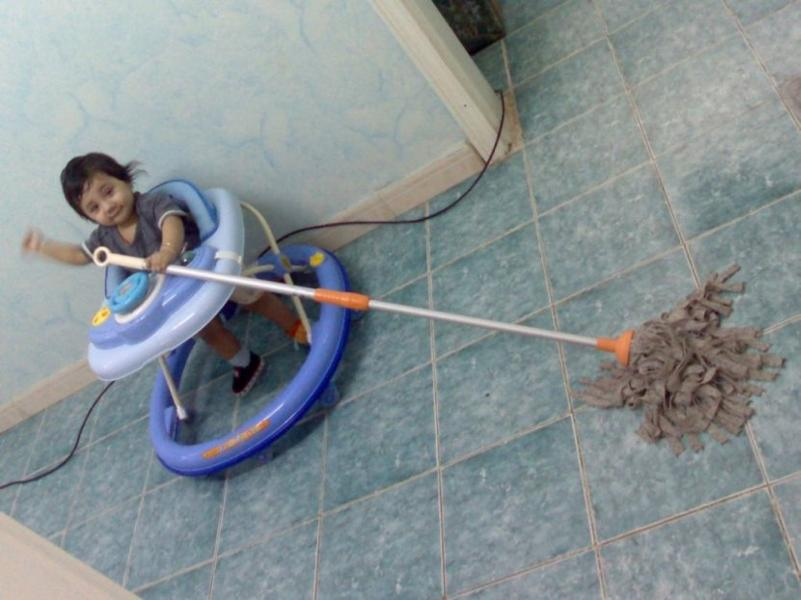person: (25, 149, 316, 401)
